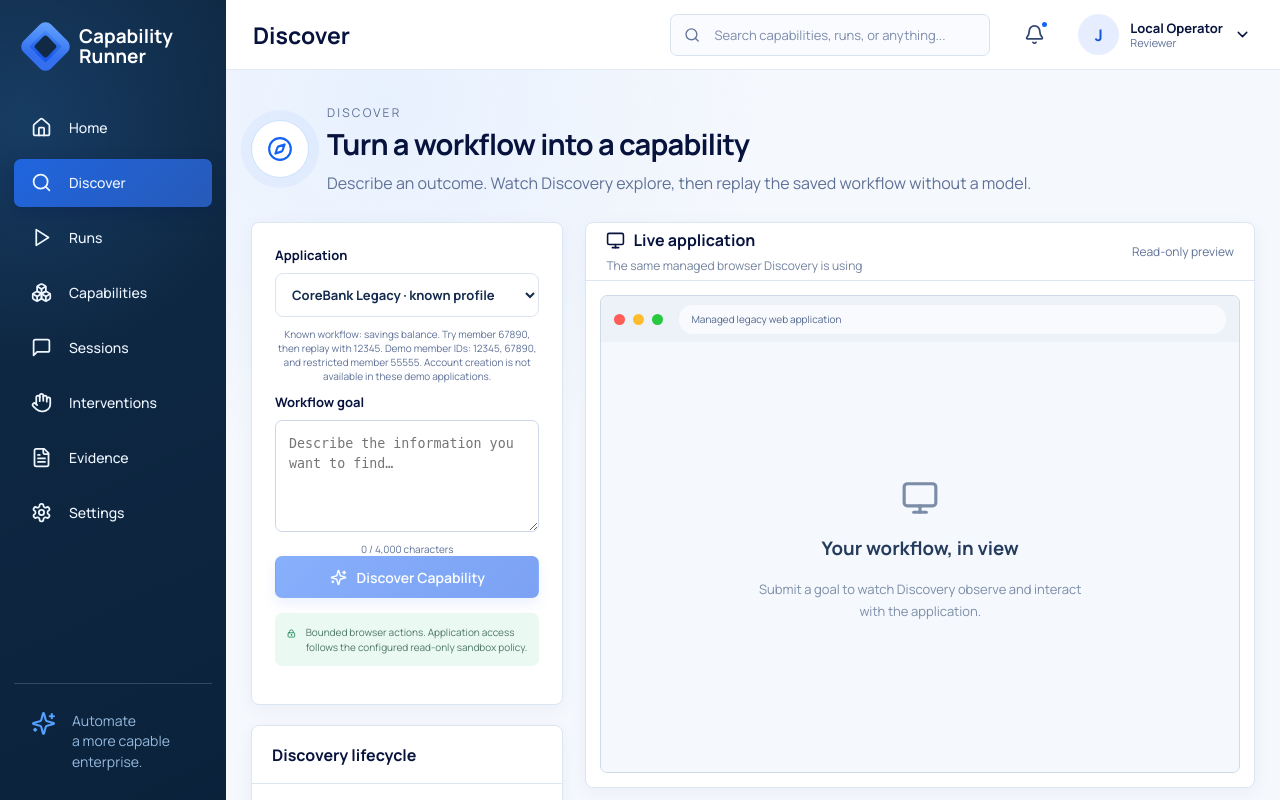
Scenario: Capability Runner product frontend › accepts arbitrary Discovery text and renders backend lifecycle
The width and height of the screenshot is (1280, 800).
expect the button "Discover Capability" is disabled: met, box [275, 556, 540, 598]
Type "Open member 67890 and tell me their balance." into the text box labelled "Workflow goal". click: (407, 476)
box: [275, 420, 540, 532]
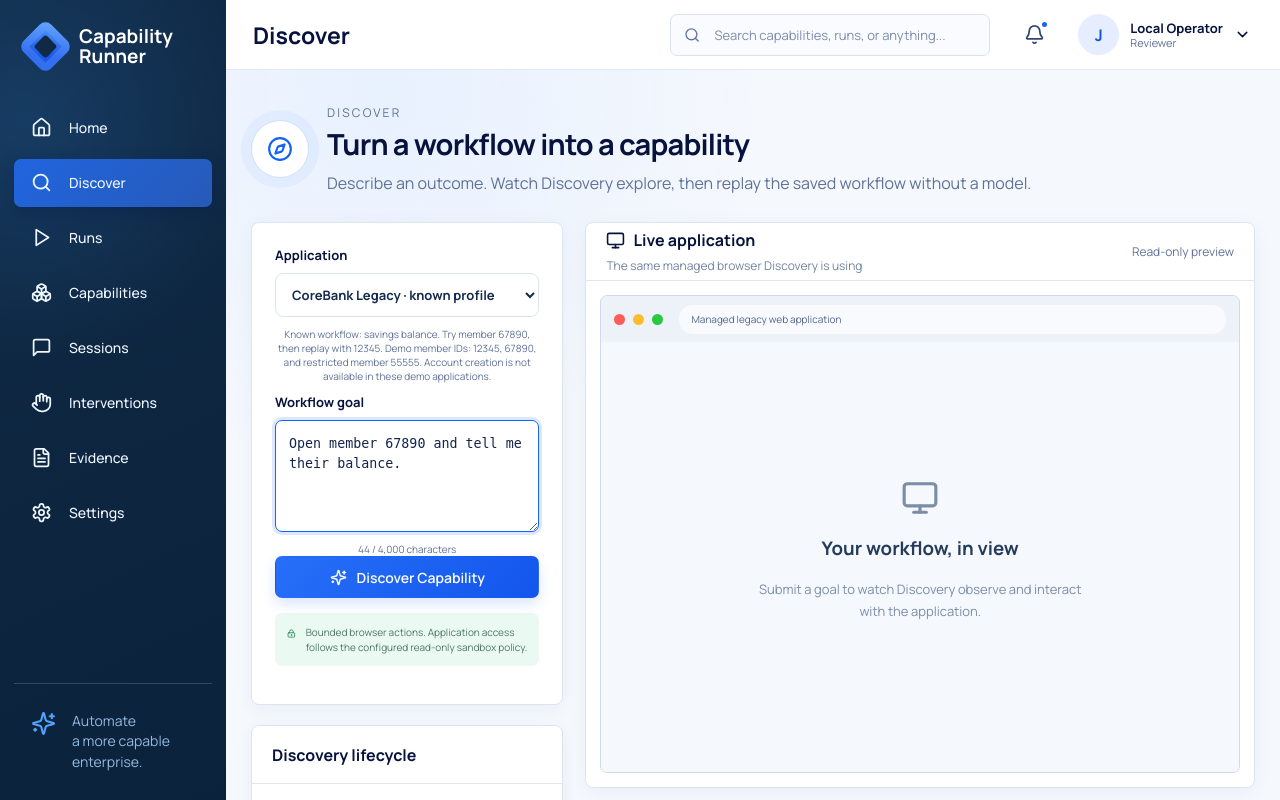
expect the button "Discover Capability" is enabled: met
Click the button "Discover Capability". click: (407, 577)
box: [275, 556, 540, 598]
(page scrolled)
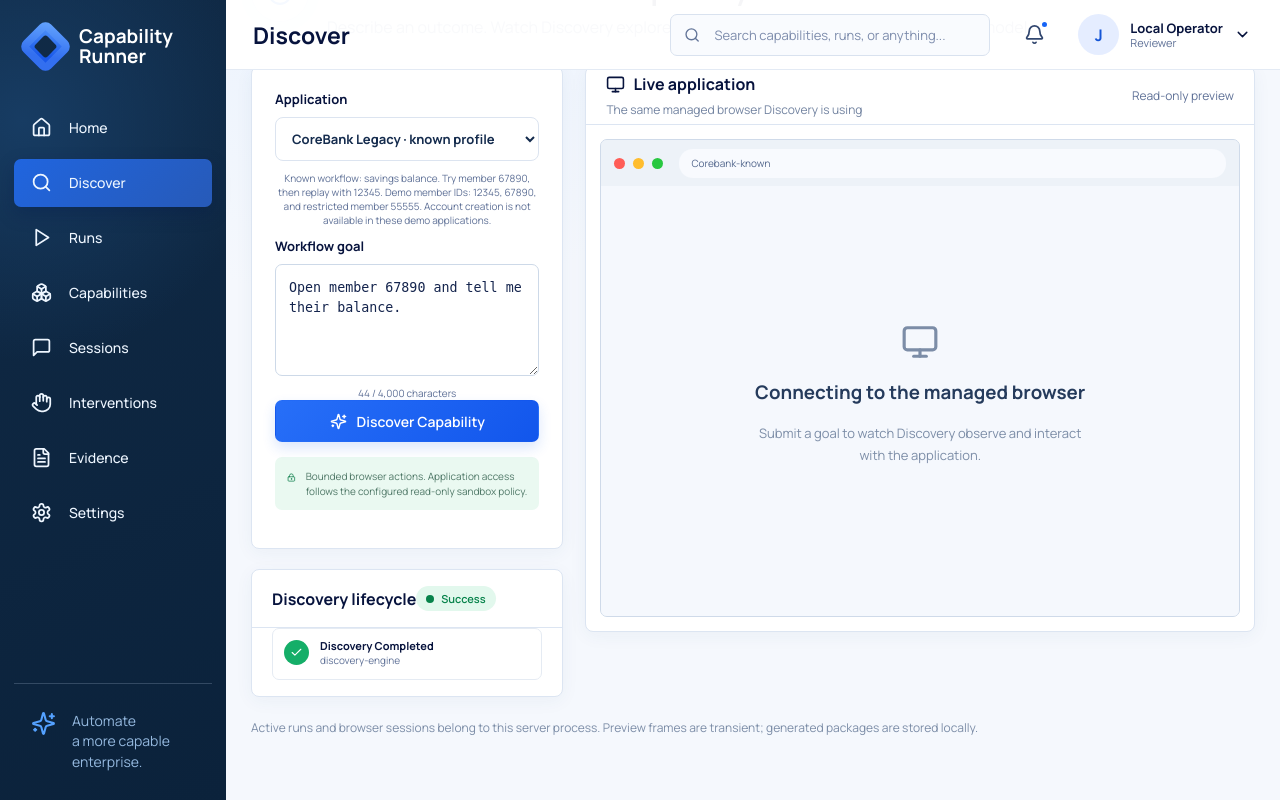
expect the text "Discovery Completed" is shown: met, box [320, 638, 434, 653]
